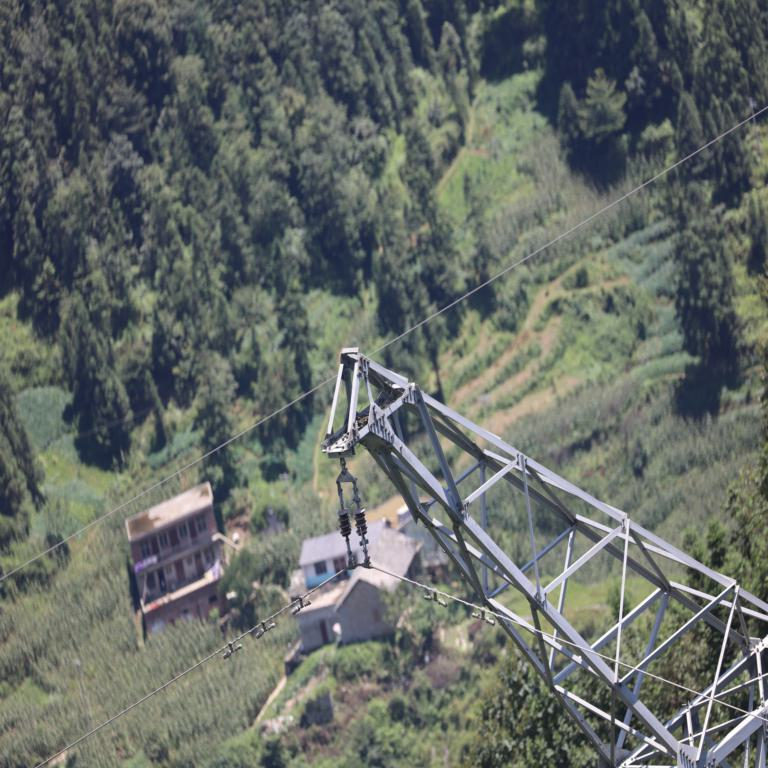nest: (345, 407, 373, 426)
